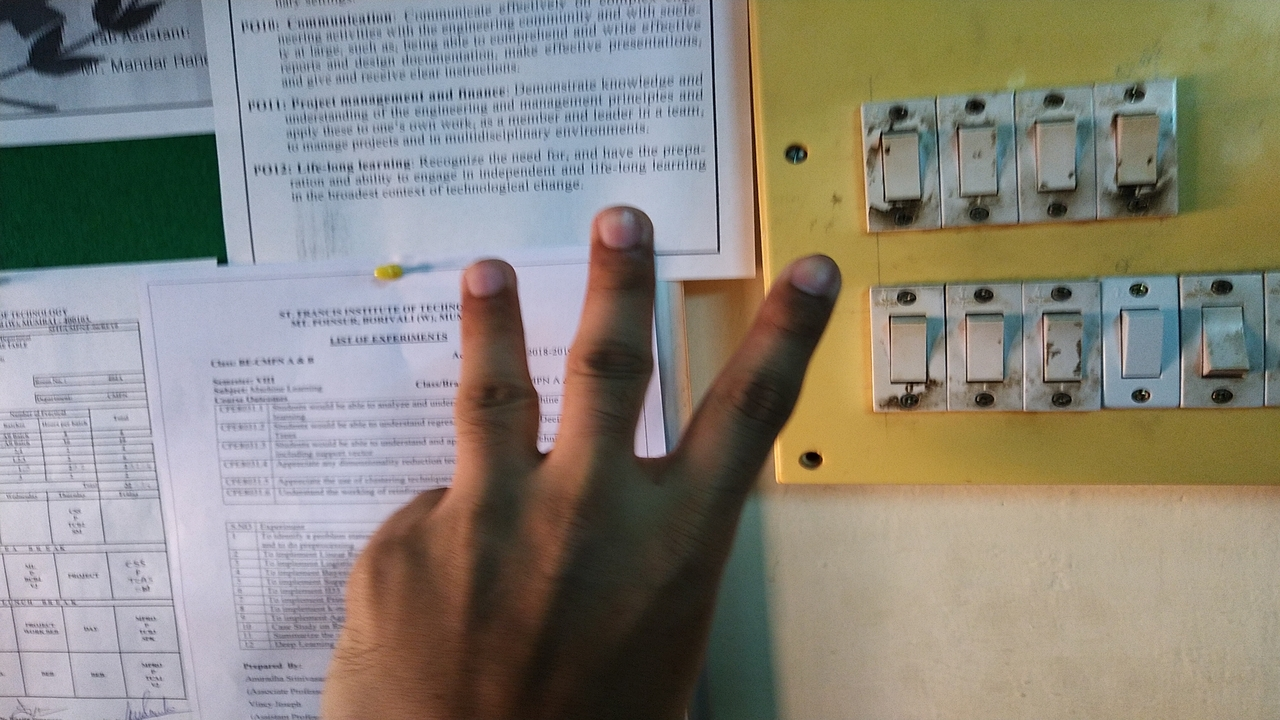fingertip: (580, 202, 652, 266), (452, 252, 518, 314), (788, 248, 848, 308)
